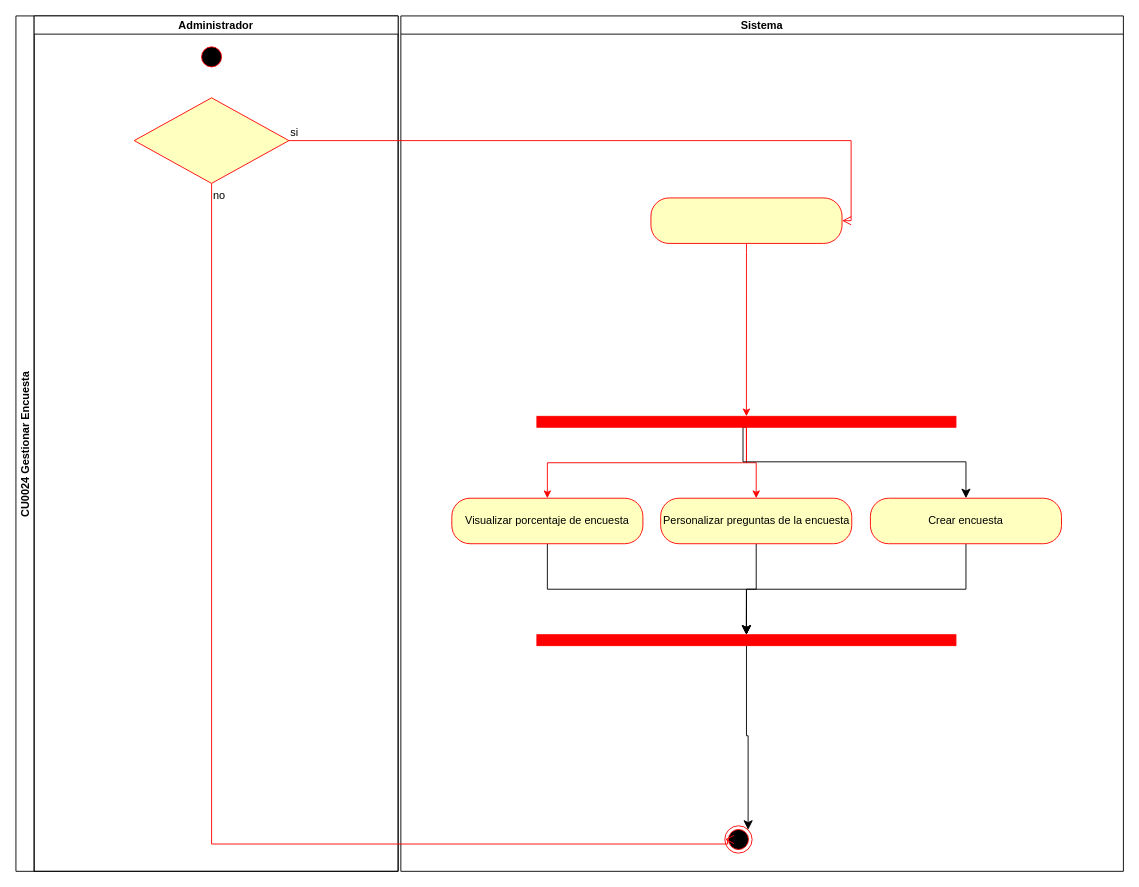
Image size: 1139x887. Some labels were removed from this diagram. The centre of each missing label's shape, as x and y in pixels:
Accede al apartado de "Gestionar encuestas": [211,140]
Se redirecciona al apartado: [746,220]
